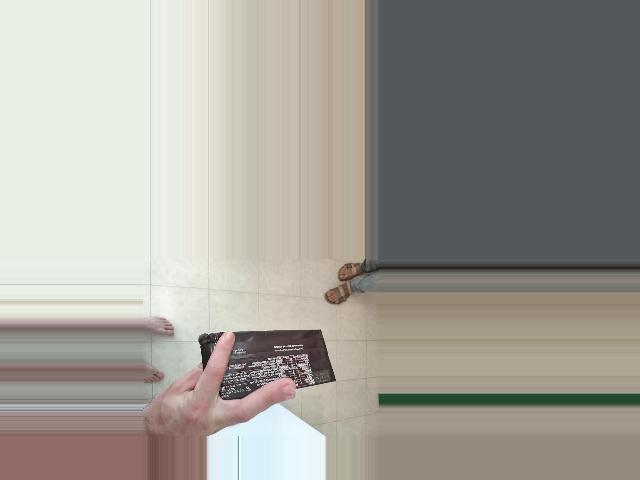chocolate: (186, 327, 343, 412)
